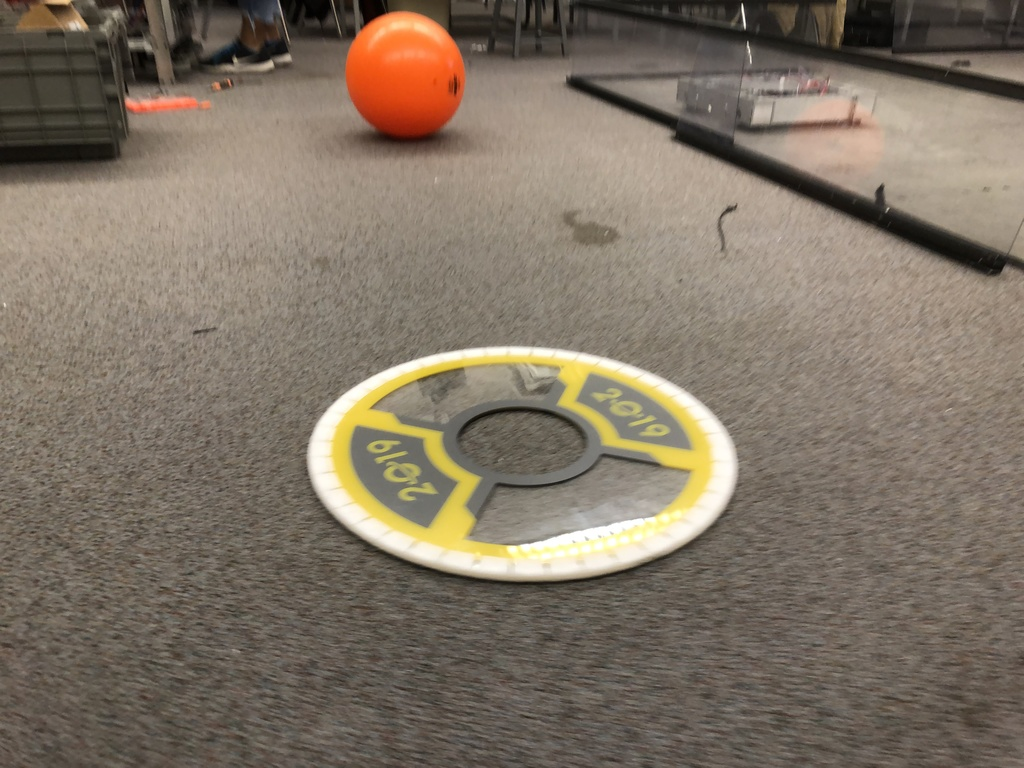hatch_panel: (291, 326, 783, 595)
